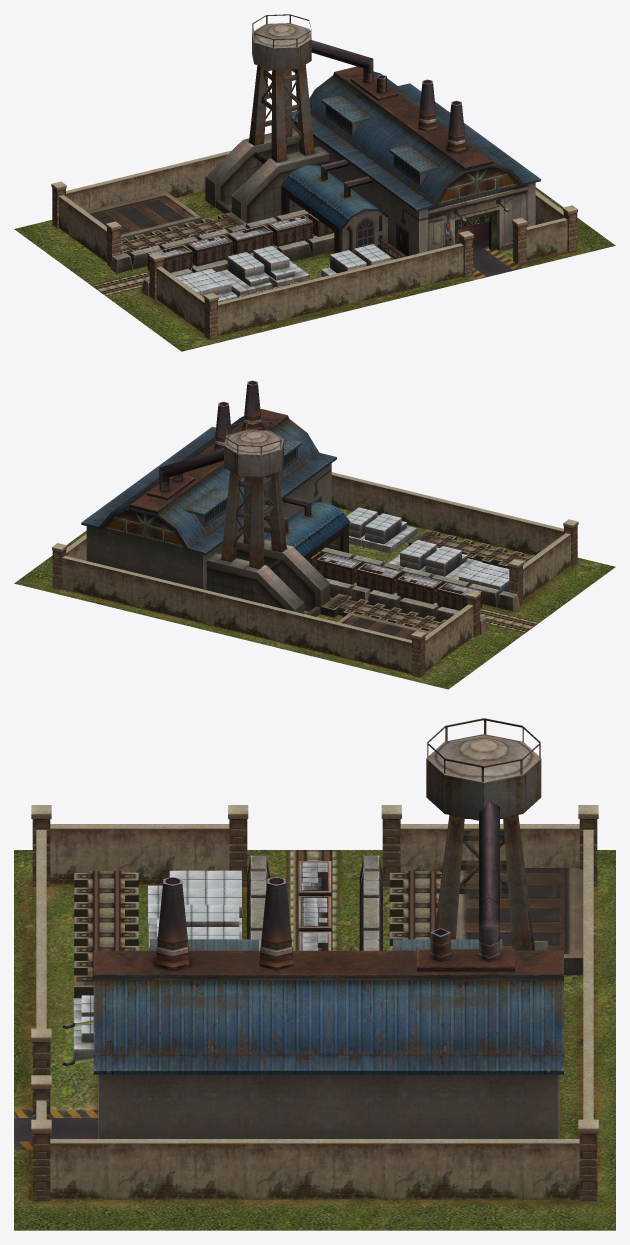
The model's file is Dhz_AluminumMinedm_01.FBX.
The picture shows the model from 3 angles, top to bottom: view 1: azimuth 30°, elevation 25°; view 2: azimuth 150°, elevation 25°; view 3: azimuth 270°, elevation 25°; orthographic projection. The views are drawn at different scales.
Visible parts, largest first — view 1: Dhz_AluminumMinedm_01; view 2: Dhz_AluminumMinedm_01; view 3: Dhz_AluminumMinedm_01.
Boxes of the visible parts, <box> form: Dhz_AluminumMinedm_01: <box>14,14,615,351</box>; Dhz_AluminumMinedm_01: <box>14,380,615,689</box>; Dhz_AluminumMinedm_01: <box>14,718,615,1230</box>.
Bounding box in the file's own units: 185 × 70.49 × 124.
